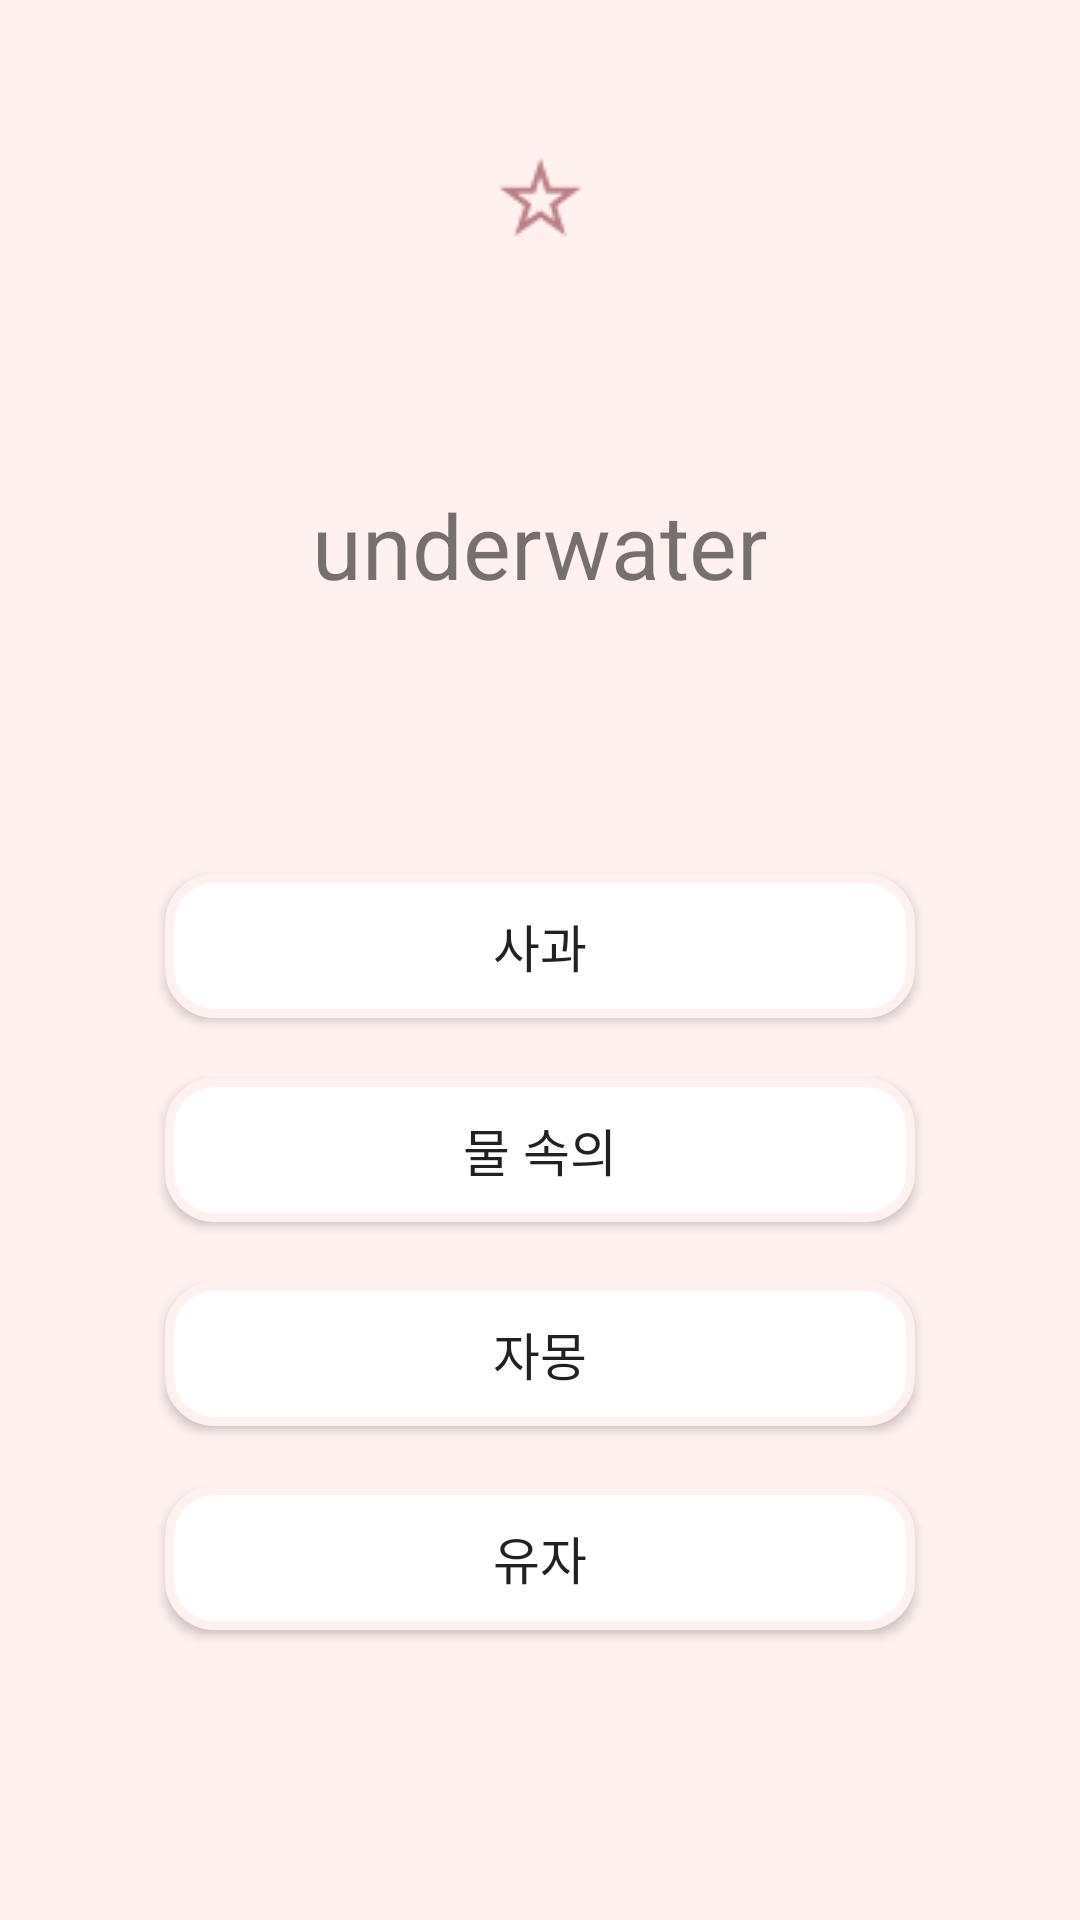

Locate icon controls on the screen. Image size 1080px x 1920px, boxes as (x1, y1, x2, y2).
star: (500, 159, 580, 236)
